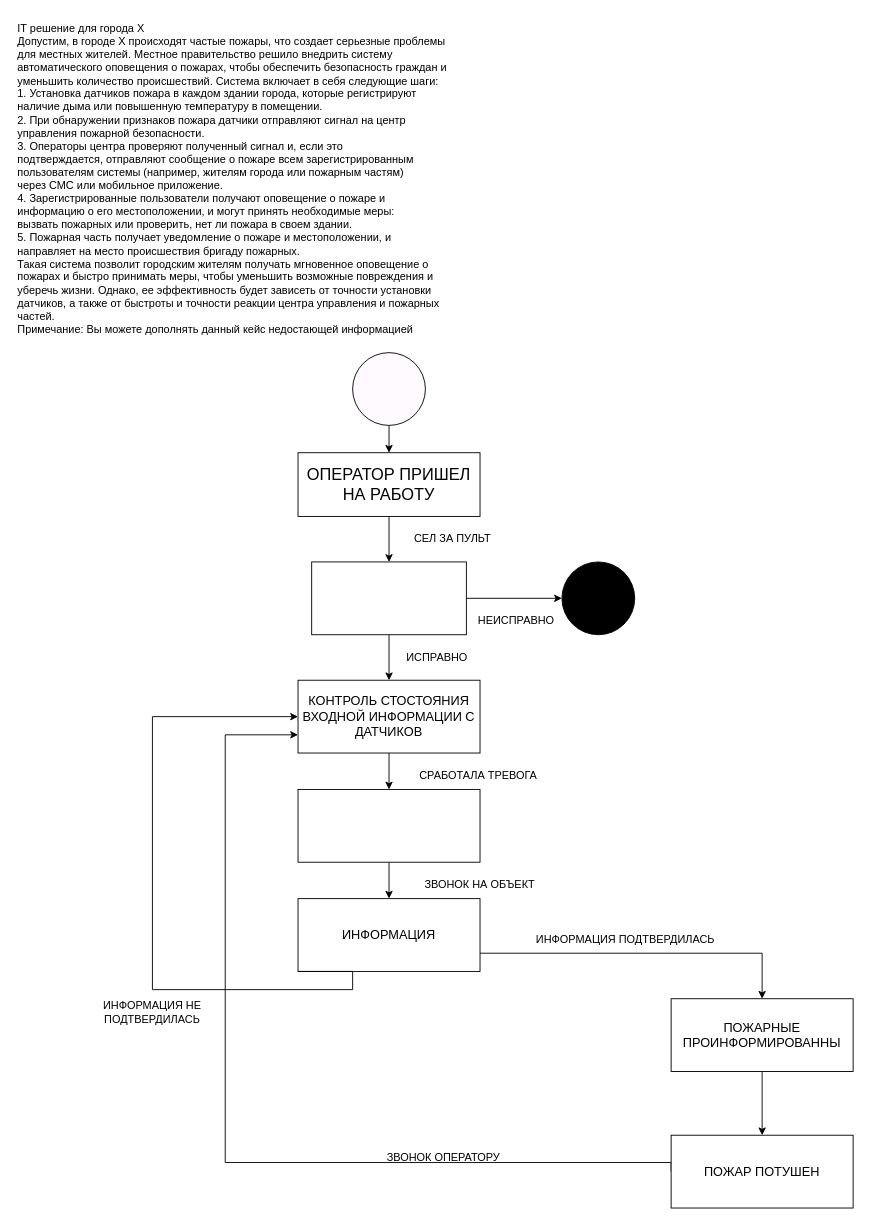
This 869x1224 diagram has some shape labels left out. Here are the shapes that lost their labels. From the top down, the centre of each, then its label:
At pixel 388 598: "ОБОРУДОВАНИЕ ИСПРАВНО".
At pixel 388 825: "ГОРИТ ИНДИКАТОР НА ПУЛЬТЕ".
